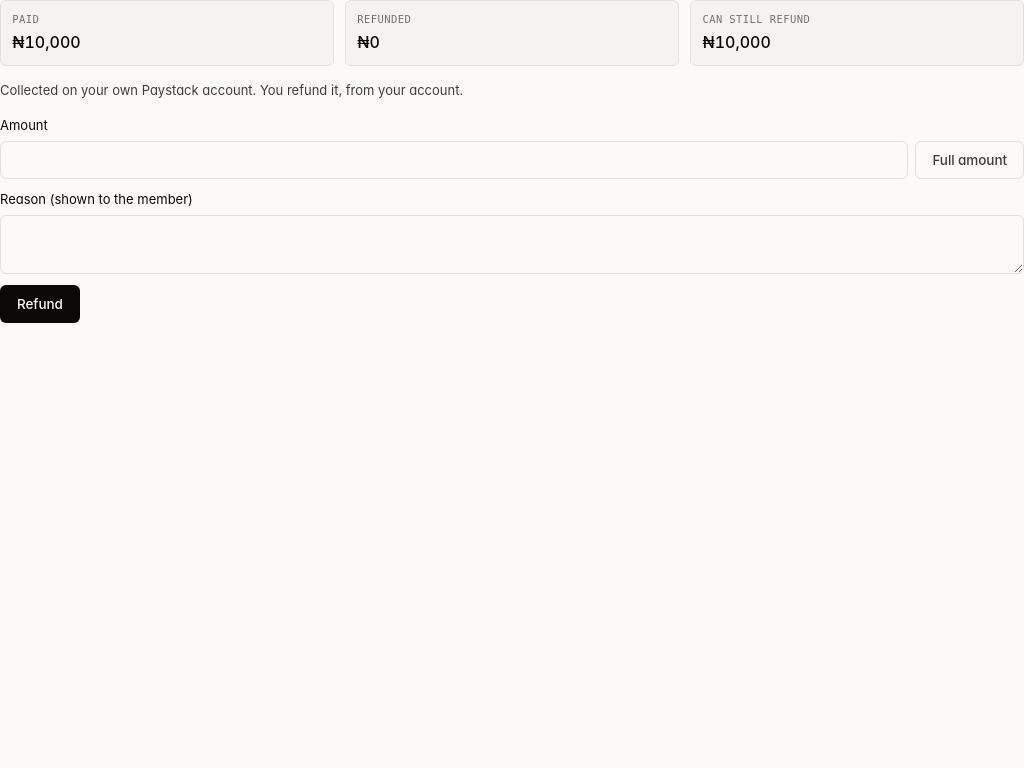
it: ChargeRefundPanel and open disputes › explains the 409 REFUND_DISPUTE_OPEN refusal and keeps the form for later
Click the button "Full amount".
click(970, 160)  # box top-left (915, 141), bottom-right (1023, 179)
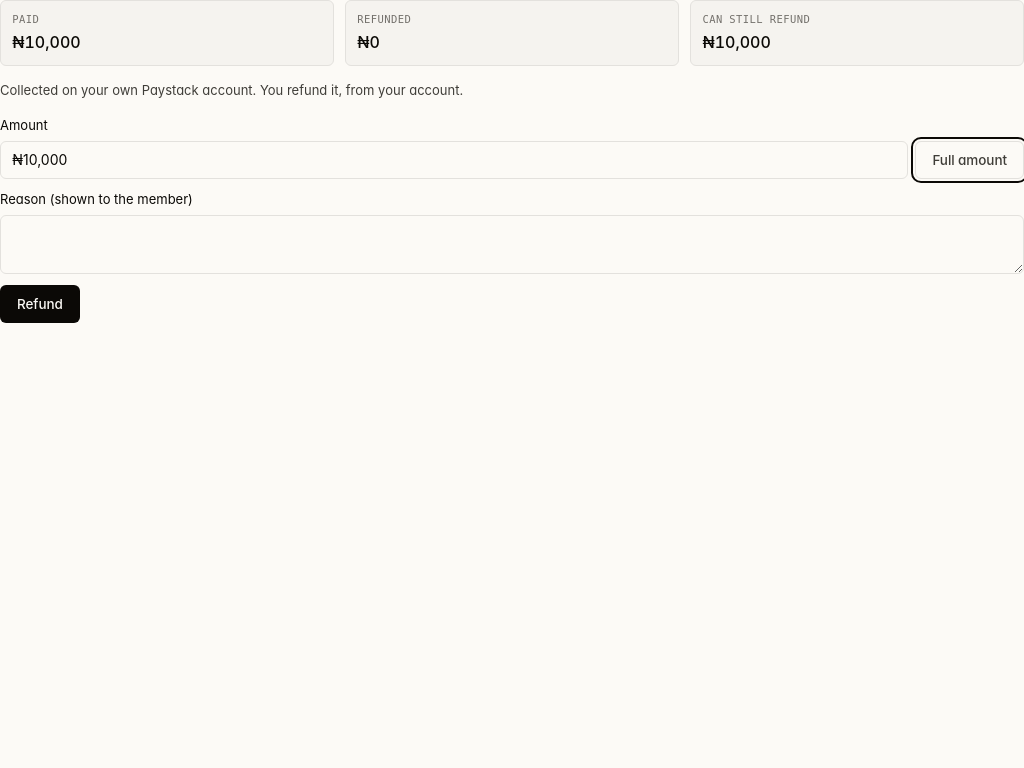
Click the button "Refund".
click(40, 304)  # box top-left (0, 285), bottom-right (80, 323)
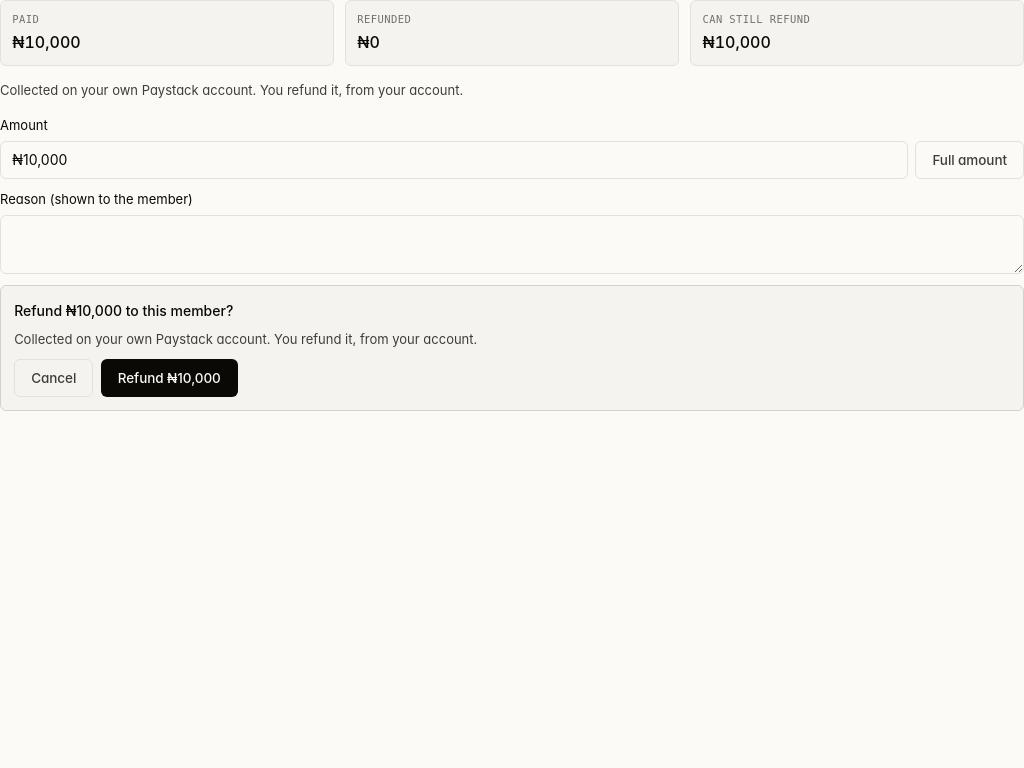
Click the button "Refund ₦10,000".
click(169, 378)  # box top-left (101, 359), bottom-right (238, 397)
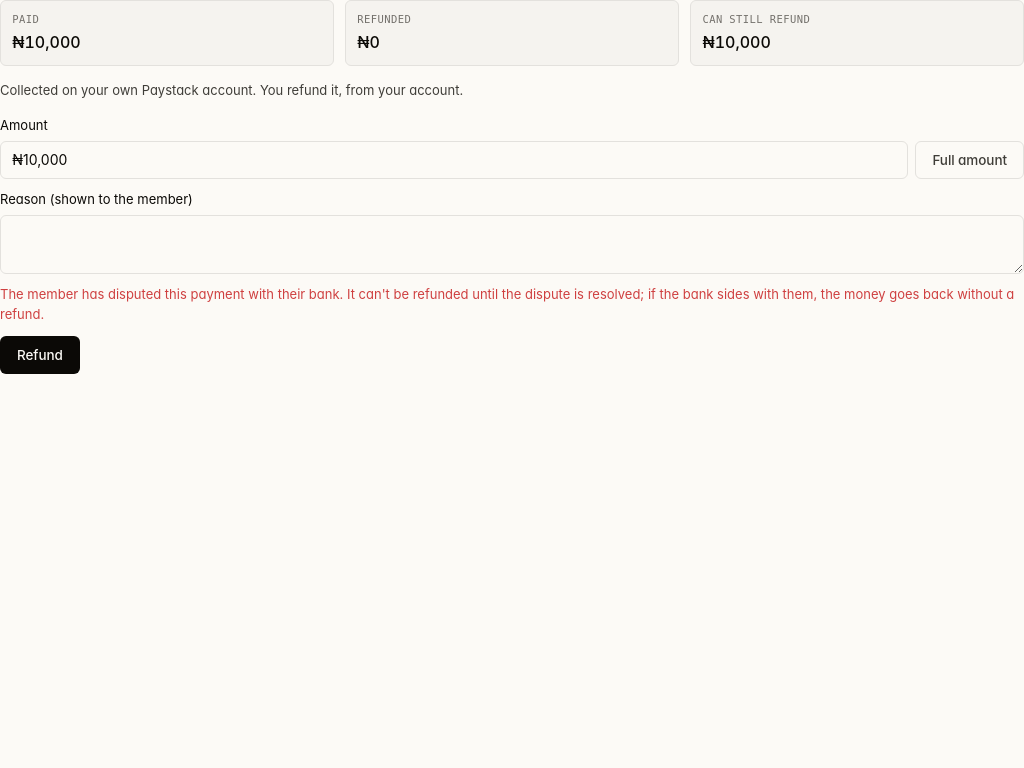
Expected: the message shows "disputed this payment with their bank", top-left (0, 286), bottom-right (1014, 322)
